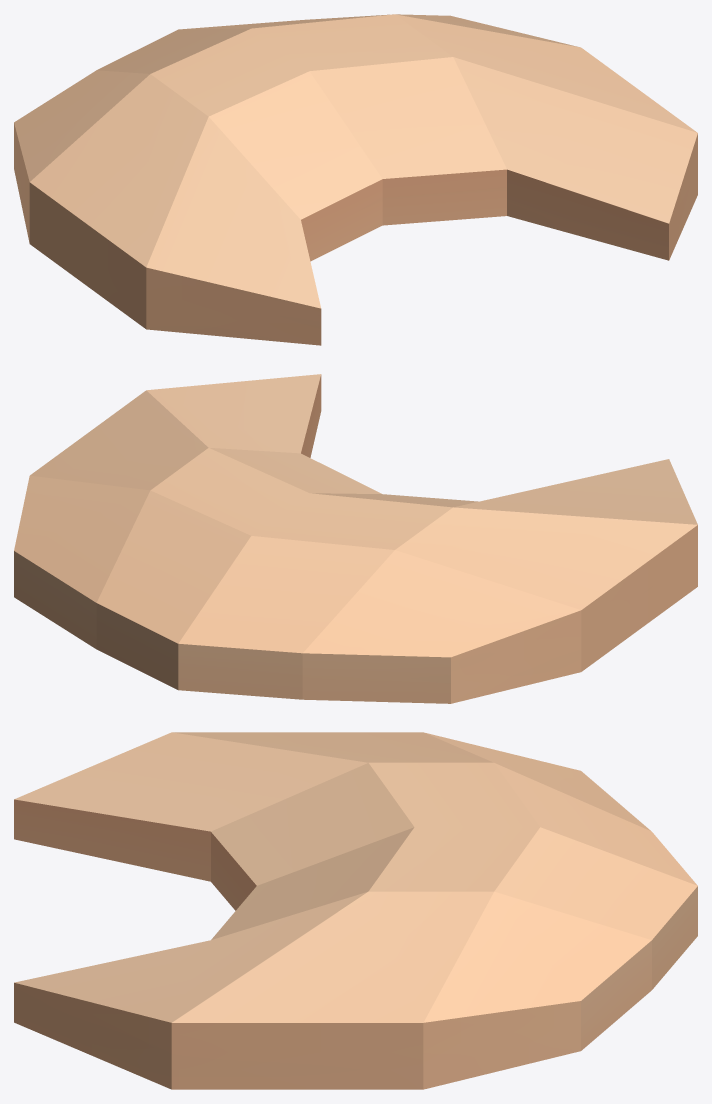
The model's file is Food_mooncookie.fbx.
The picture shows the model from 3 angles, top to bottom: view 1: azimuth 30°, elevation 25°; view 2: azimuth 150°, elevation 25°; view 3: azimuth 270°, elevation 25°; orthographic projection. The views are drawn at different scales.
Visible parts, largest first — view 1: Cube.064; view 2: Cube.064; view 3: Cube.064.
Part boxes in pixels (<box>): Cube.064: <box>14,14,697,345</box>; Cube.064: <box>14,374,697,703</box>; Cube.064: <box>14,732,697,1089</box>.
Bounding box in the file's own units: 11.34 × 2.13 × 11.28.
